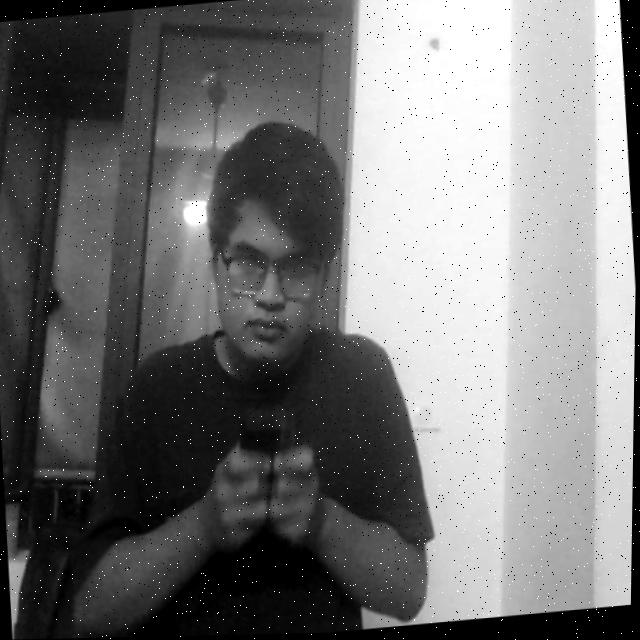phone: (222, 399, 319, 516)
